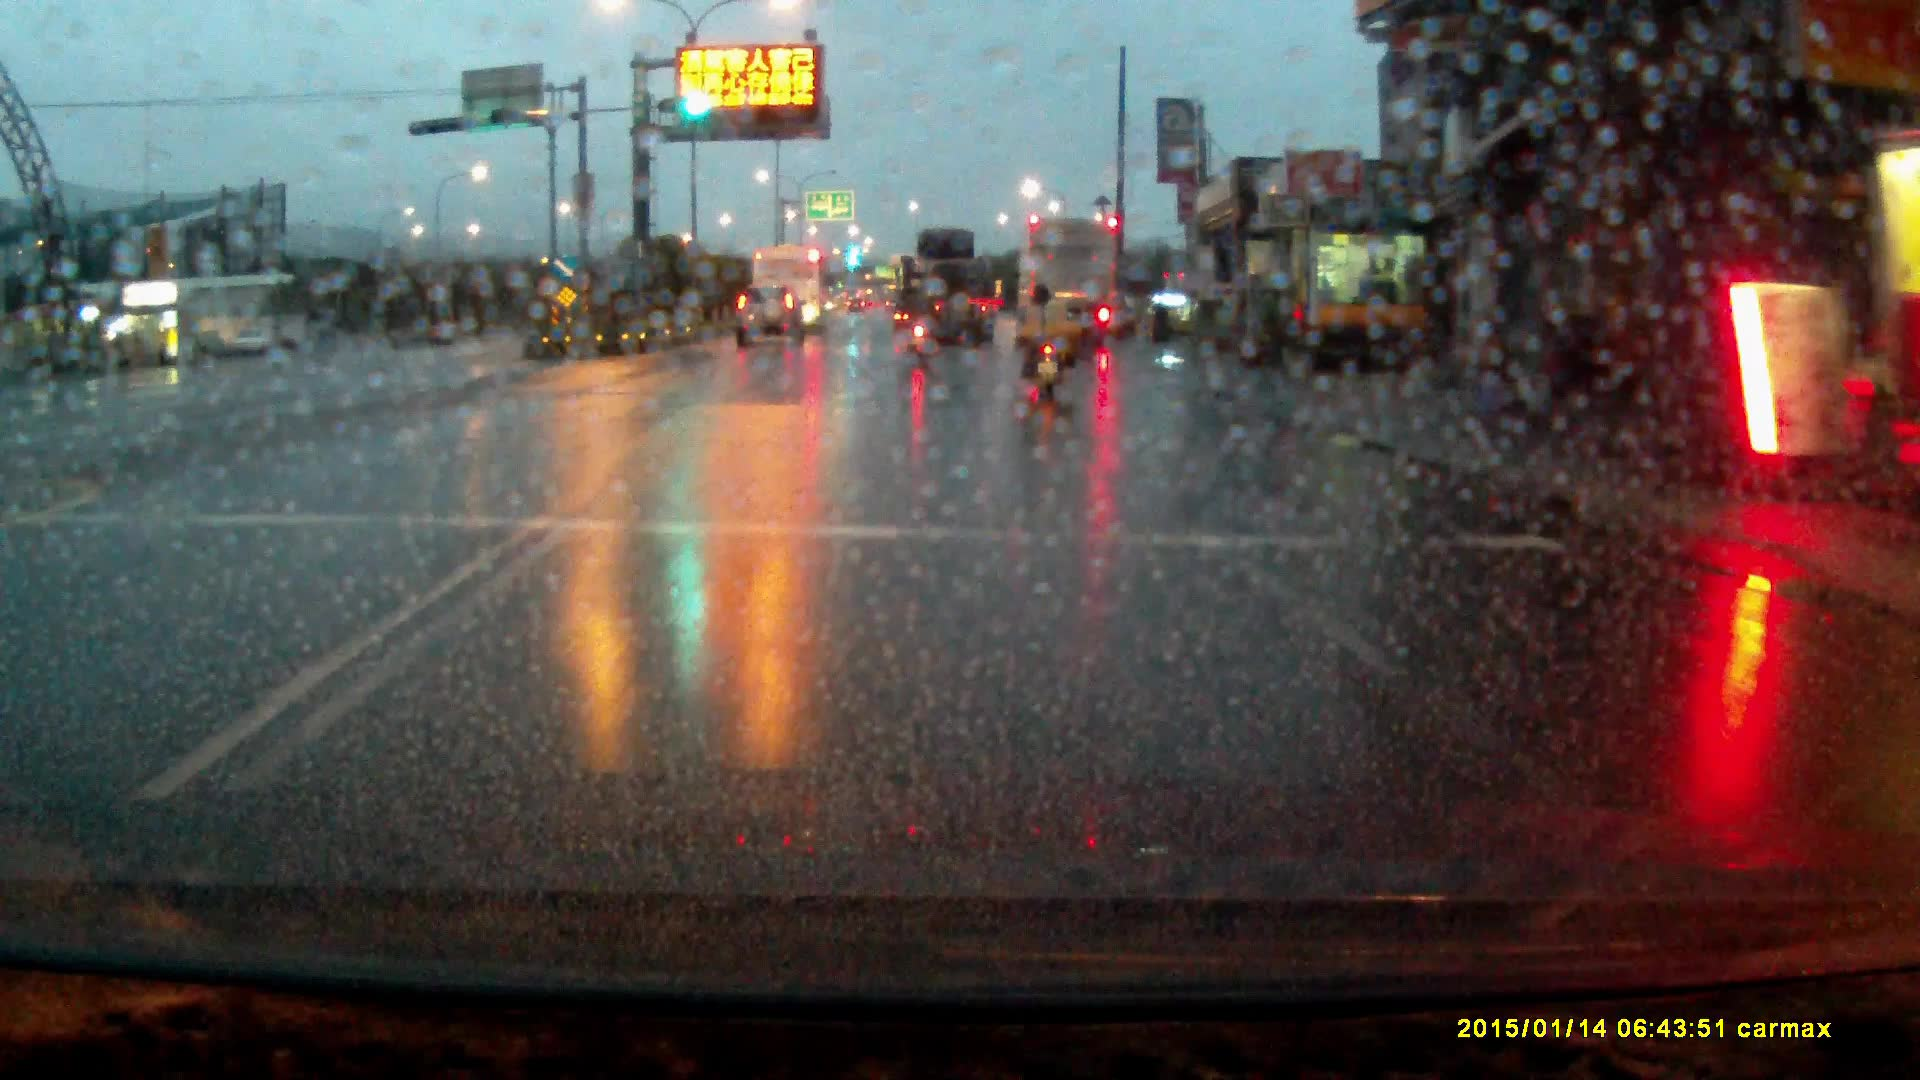rider: (1018, 287, 1079, 411), (901, 282, 939, 369)
vehicle: (1019, 219, 1119, 351), (901, 232, 997, 347), (755, 245, 829, 331), (733, 292, 808, 358)
